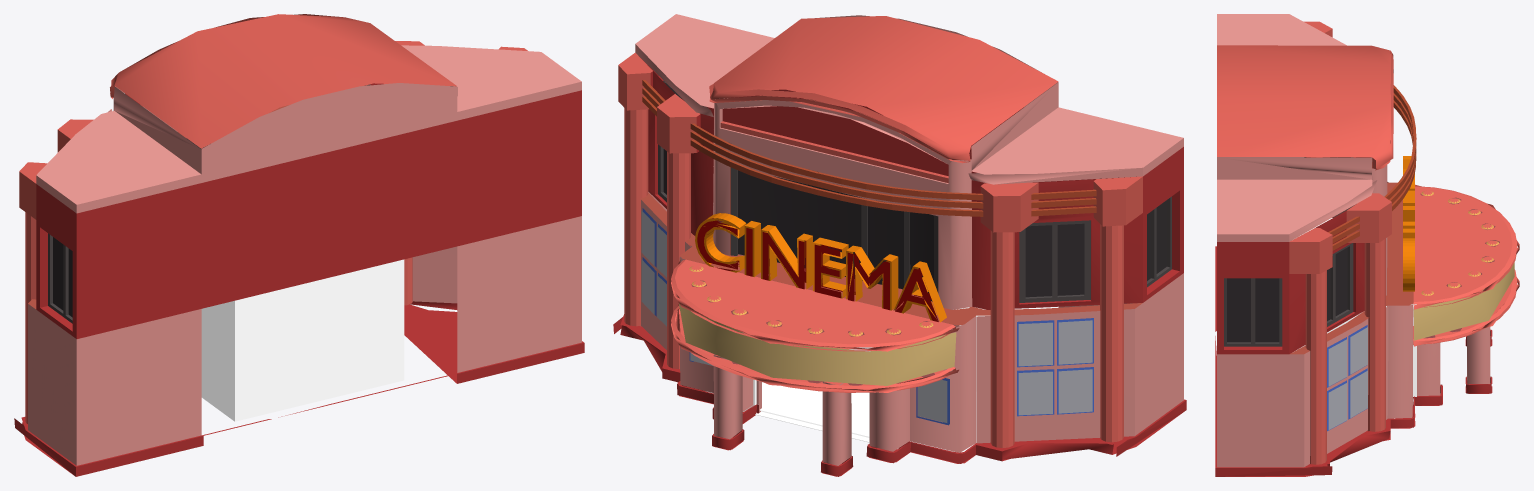
File: Cinema.glb
3 renders of one model, left to right at view 1: azimuth 30°, elevation 25°; view 2: azimuth 150°, elevation 25°; view 3: azimuth 270°, elevation 25°, orthographic. The views are drawn at different scales.
Visible parts, largest first — view 1: Cube.001; view 2: Cube.001; view 3: Cube.001.
Boxes of the visible parts, x1=… form: Cube.001: x1=14, y1=14, x2=584, y2=476; Cube.001: x1=613, y1=14, x2=1186, y2=476; Cube.001: x1=1215, y1=14, x2=1519, y2=476.
Size of the model in its own units: 2.92 by 1.76 by 1.69.
Materials: 2 (1 with a texture image).
